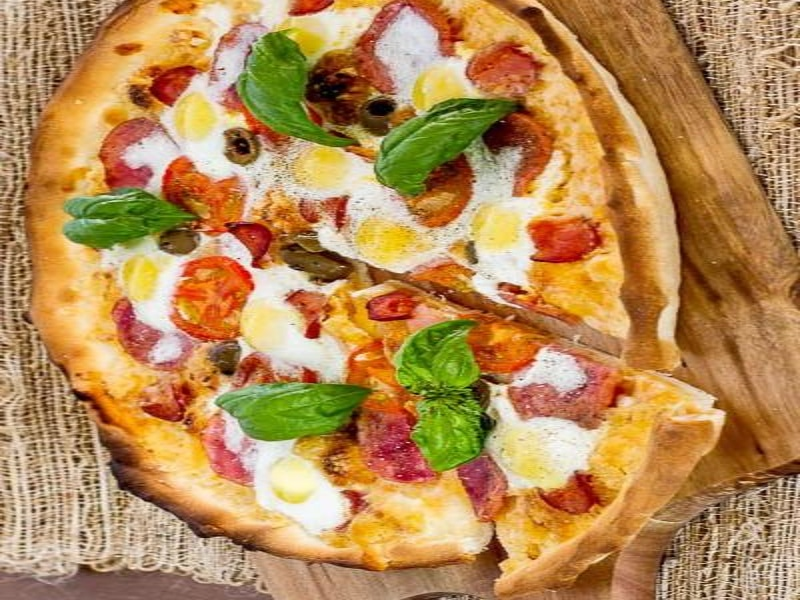oeuf: (255, 451, 352, 530), (345, 193, 434, 272), (467, 196, 536, 278), (495, 416, 581, 480), (164, 82, 227, 169), (108, 248, 174, 322), (285, 146, 366, 200), (238, 294, 300, 361), (414, 65, 477, 108)
